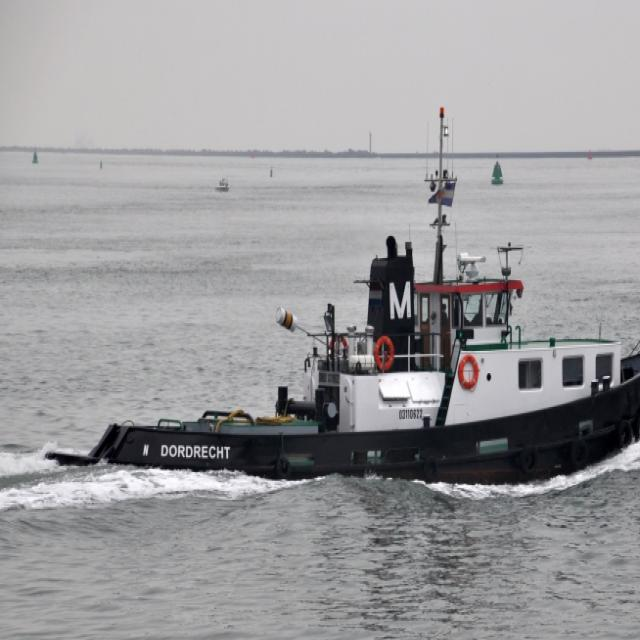tugboat: (44, 166, 640, 510)
